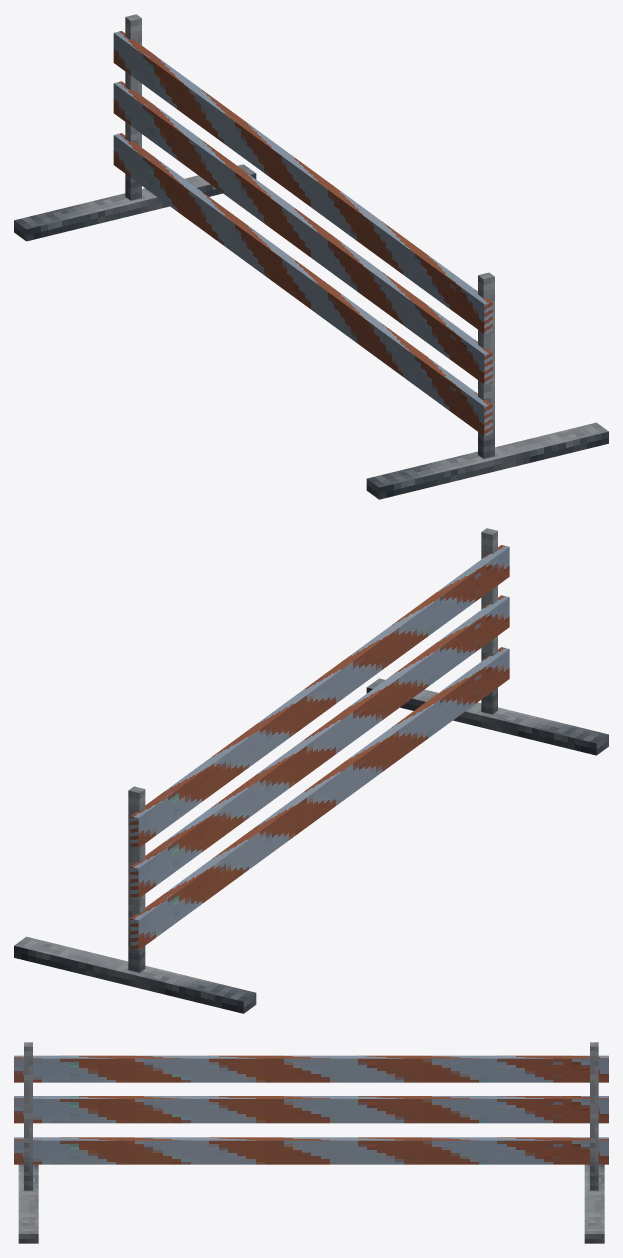
File: env_streetbarricade_medium.glb
3 renders of one model, top to bottom at view 1: azimuth 30°, elevation 25°; view 2: azimuth 150°, elevation 25°; view 3: azimuth 270°, elevation 25°, orthographic. The views are drawn at different scales.
Visible parts, largest first — view 1: env_streetbarricade_medium; view 2: env_streetbarricade_medium; view 3: env_streetbarricade_medium.
Part boxes in pixels (x1,y1,x2,y2): env_streetbarricade_medium: (14,14,608,499); env_streetbarricade_medium: (14,528,608,1013); env_streetbarricade_medium: (14,1042,608,1243).
Bounding box in the file's own units: 0.00409 × 0.00326 × 0.0114.
2 materials, 2 textured.
